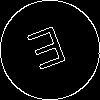E: (25, 25, 72, 80)
